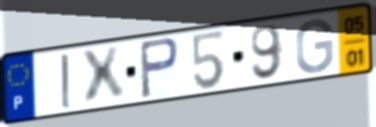5: (189, 27, 226, 92)
9: (249, 24, 285, 82)
G: (294, 17, 335, 76)
I: (59, 52, 74, 112)
P: (137, 35, 182, 101)
X: (77, 43, 128, 108)
